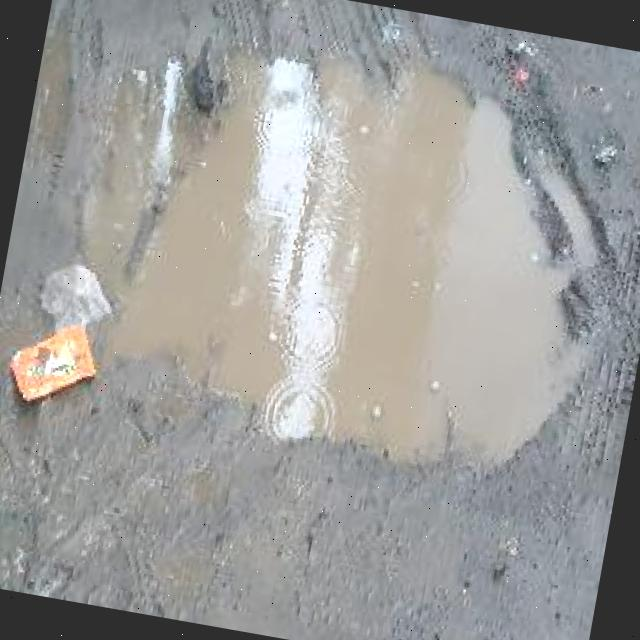waterlogging: (157, 17, 640, 508)
